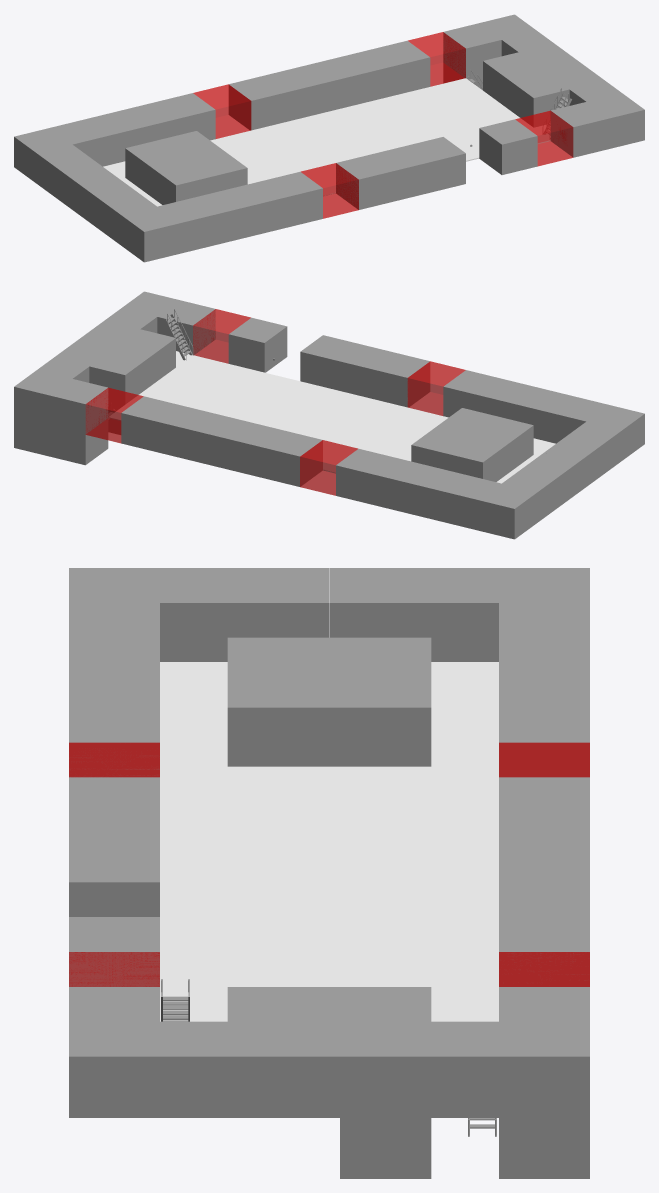
File: Test layout ship.fbx
3 renders of one model, top to bottom at view 1: azimuth 30°, elevation 25°; view 2: azimuth 150°, elevation 25°; view 3: azimuth 270°, elevation 25°, orthographic. The views are drawn at different scales.
Visible parts, largest first — view 1: pCube70, pCube46, pCube53, pCube54, pCube69, pCube32, pCube35, pCube40, pCube55, pCube49, pCube47, pCube31 (+38 smaller); view 2: pCube70, pCube46, pCube54, pCube53, pCube55, pCube32, pCube40, pCube35, pCube69, pCube50, pCube48, pCube45 (+40 smaller); view 3: pCube70, pCube46, pCube53, pCube54, pCube32, pCube33, pCube37, pCube38, pCube44, pCube73, pCube72, pCube34 (+55 smaller).
Boxes of the visible parts, left/top/right/bottom form: pCube70: left=479, top=14, right=644, bottom=148; pCube46: left=125, top=131, right=247, bottom=204; pCube53: left=79, top=175, right=179, bottom=262; pCube54: left=14, top=128, right=114, bottom=214; pCube69: left=550, top=102, right=609, bottom=157; pCube32: left=479, top=119, right=537, bottom=174; pCube35: left=336, top=154, right=394, bottom=209; pCube40: left=229, top=75, right=286, bottom=130; pCube55: left=443, top=23, right=501, bottom=78; pCube49: left=193, top=189, right=251, bottom=244; pCube47: left=229, top=180, right=287, bottom=235; pCube31: left=515, top=110, right=573, bottom=166; pCube70: left=14, top=291, right=179, bottom=425; pCube46: left=411, top=408, right=533, bottom=481; pCube54: left=479, top=452, right=579, bottom=539; pCube53: left=544, top=405, right=644, bottom=491; pCube55: left=49, top=379, right=108, bottom=434; pCube32: left=228, top=317, right=287, bottom=372; pCube40: left=264, top=431, right=322, bottom=486; pCube35: left=372, top=352, right=429, bottom=407; pCube69: left=157, top=300, right=215, bottom=354; pCube50: left=407, top=466, right=465, bottom=521; pCube48: left=371, top=457, right=429, bottom=512; pCube45: left=85, top=387, right=143, bottom=443; pCube70: left=69, top=987, right=589, bottom=1117; pCube46: left=227, top=637, right=431, bottom=766; pCube53: left=69, top=568, right=329, bottom=661; pCube54: left=329, top=568, right=589, bottom=661; pCube32: left=69, top=917, right=159, bottom=986; pCube33: left=69, top=847, right=159, bottom=916; pCube37: left=69, top=707, right=159, bottom=776; pCube38: left=499, top=707, right=589, bottom=776; pCube44: left=499, top=917, right=589, bottom=986; pCube73: left=340, top=1118, right=431, bottom=1178; pCube72: left=499, top=1118, right=589, bottom=1178; pCube34: left=69, top=812, right=159, bottom=847.
Size of the model in its own units: 478 by 70.61 by 215.
